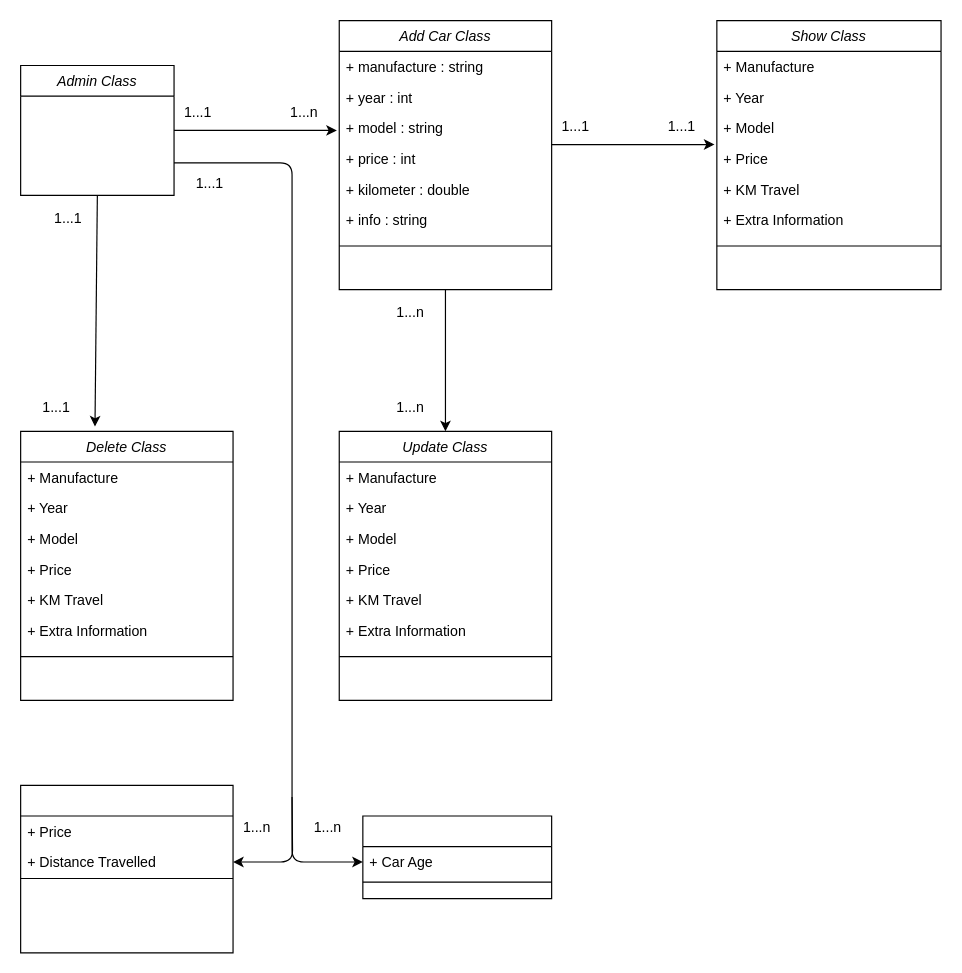
This 962x973 diagram has some shape labels left out. The box of each missing label's shape, as (x1, y1, x2, y2) in pixels:
Search Age Class: (362, 815, 552, 899)
Search Price Class: (19, 784, 233, 953)
